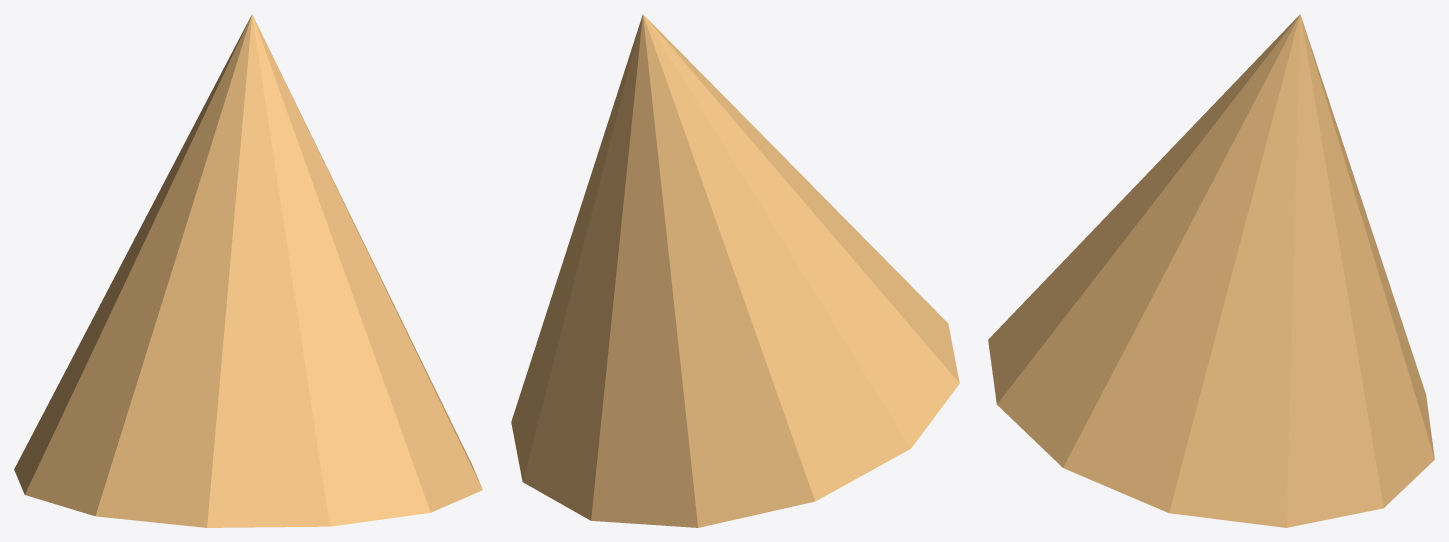
Rendered from astronaut_spawn_group282641779_lev4.glb.
The picture shows the model from 3 angles, left to right: view 1: azimuth 30°, elevation 25°; view 2: azimuth 150°, elevation 25°; view 3: azimuth 270°, elevation 25°; orthographic projection. The views are drawn at different scales.
Visible parts, largest first — view 1: astronaut_spawn_group282641779_lev4; view 2: astronaut_spawn_group282641779_lev4; view 3: astronaut_spawn_group282641779_lev4.
Boxes of the visible parts, x1,y1,x2,y2 form: astronaut_spawn_group282641779_lev4: (14, 14, 482, 527); astronaut_spawn_group282641779_lev4: (511, 14, 959, 527); astronaut_spawn_group282641779_lev4: (988, 14, 1434, 527).
Size of the model in its own units: 0.1821 by 0.2019 by 0.1793.
